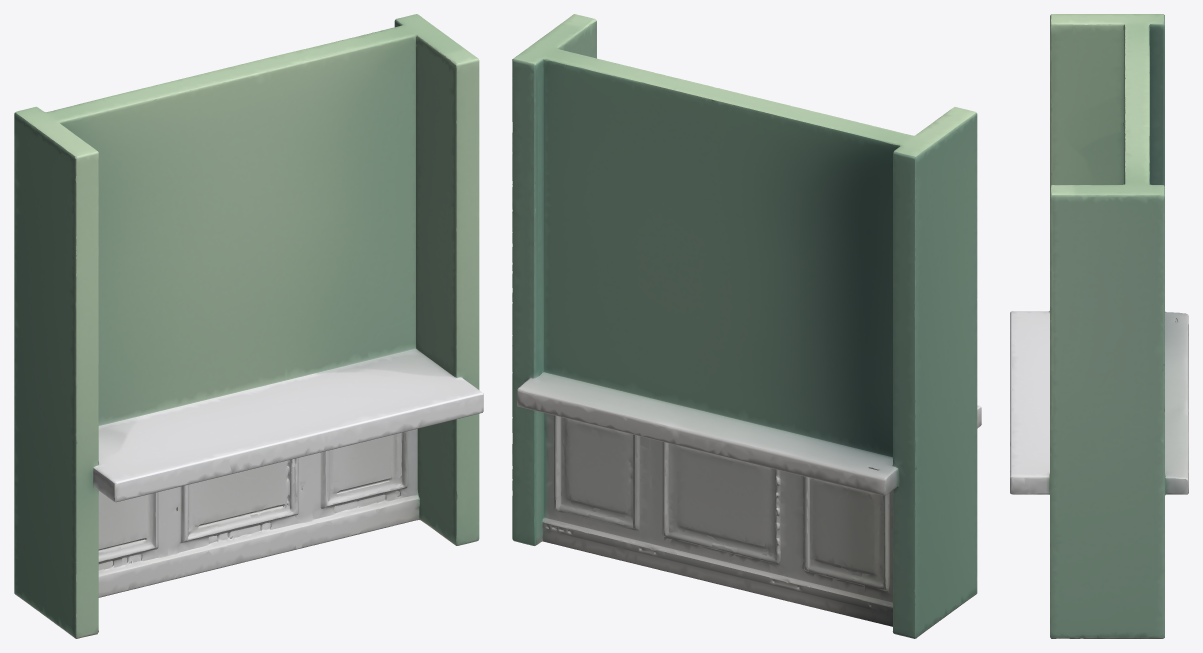
File: item_88301798.glb
3 views of the same model, side by side, from view 1: azimuth 30°, elevation 25°; view 2: azimuth 150°, elevation 25°; view 3: azimuth 270°, elevation 25° (orthographic). The views are drawn at different scales.
Parts seen in each view (by area): view 1: world; view 2: world; view 3: world.
Boxes of the visible parts, <box> form: world: <box>14,14,483,638</box>; world: <box>512,14,981,638</box>; world: <box>1010,14,1188,638</box>.
Bounding box in the file's own units: 2.1 × 2.4 × 0.8751.
Materials: 1 (1 with a texture image).
